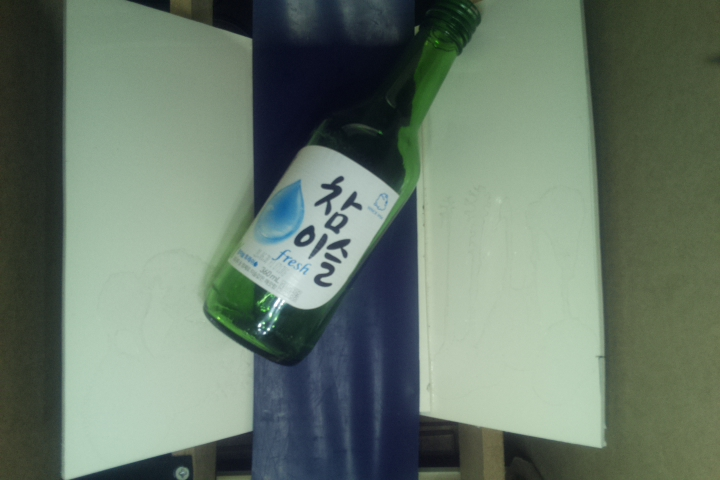soju: (199, 1, 487, 366)
